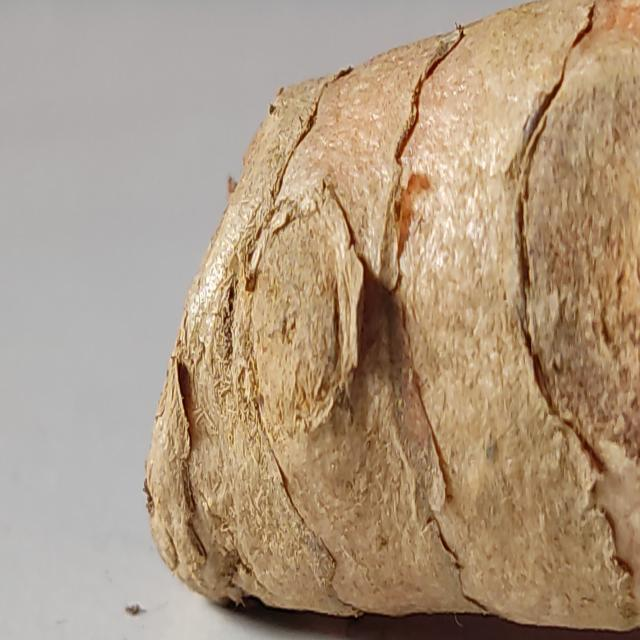ginger: (158, 37, 640, 629)
